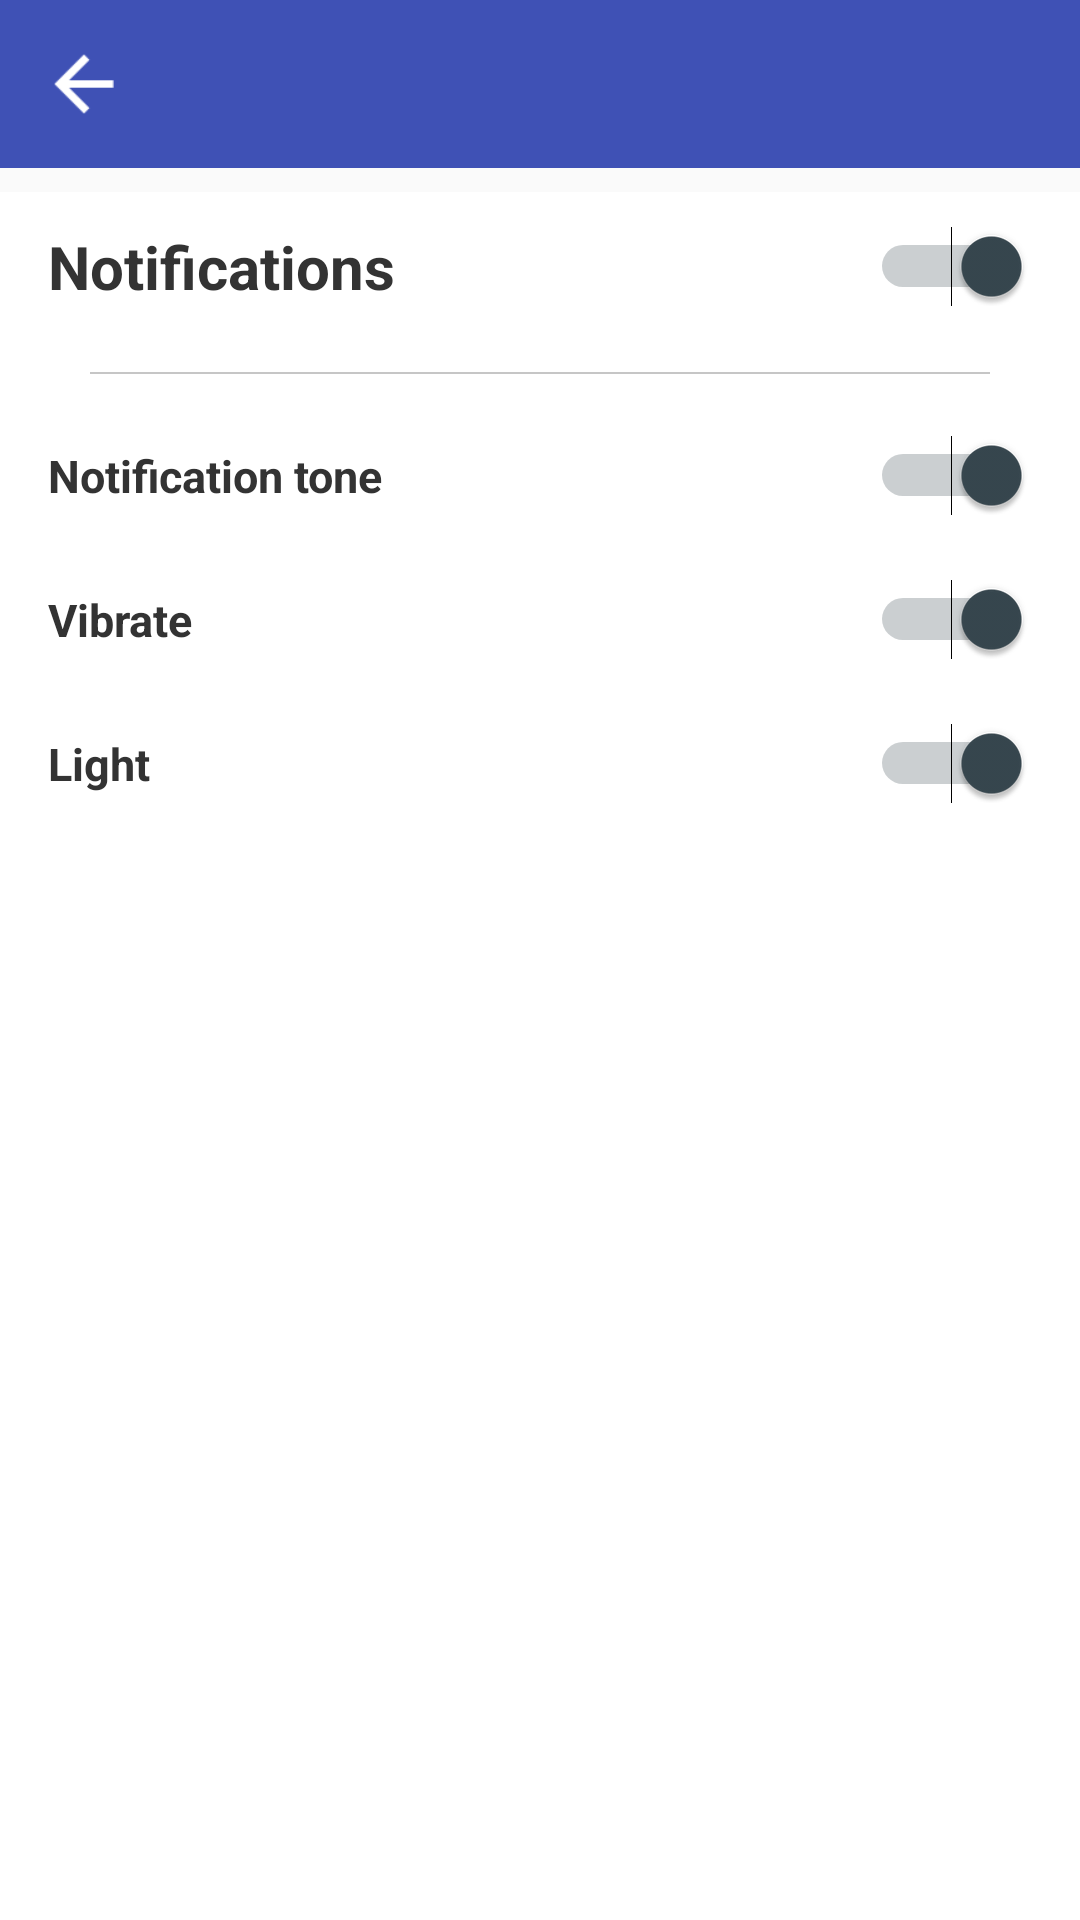

Screen size 1080×1920. Icon name, then its box in pixels as [left=x1, top=y1, right=x2, bottom=y2]:
back arrow: [left=54, top=54, right=114, bottom=114]
